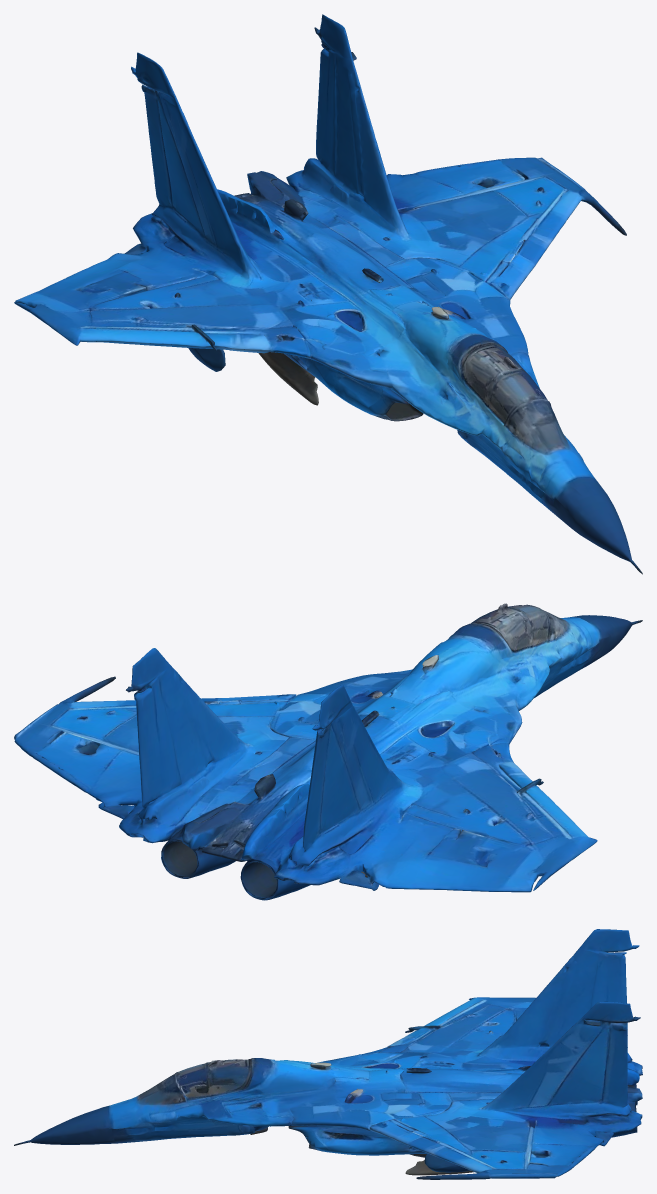
Rendered from sahin.glb.
3 renders of one model, top to bottom at view 1: azimuth 30°, elevation 25°; view 2: azimuth 150°, elevation 25°; view 3: azimuth 270°, elevation 25°, orthographic. The views are drawn at different scales.
Visible parts, largest first — view 1: tripo_node_b17df789-a42f-48a3-a2af-a79dbcb5b6f2; view 2: tripo_node_b17df789-a42f-48a3-a2af-a79dbcb5b6f2; view 3: tripo_node_b17df789-a42f-48a3-a2af-a79dbcb5b6f2.
Boxes of the visible parts, x1,y1,x2,y2 form: tripo_node_b17df789-a42f-48a3-a2af-a79dbcb5b6f2: [14, 14, 642, 574]; tripo_node_b17df789-a42f-48a3-a2af-a79dbcb5b6f2: [14, 603, 642, 900]; tripo_node_b17df789-a42f-48a3-a2af-a79dbcb5b6f2: [14, 929, 642, 1179].
Size of the model in its own units: 0.7183 by 0.3413 by 1.
1 material, 1 textured.
